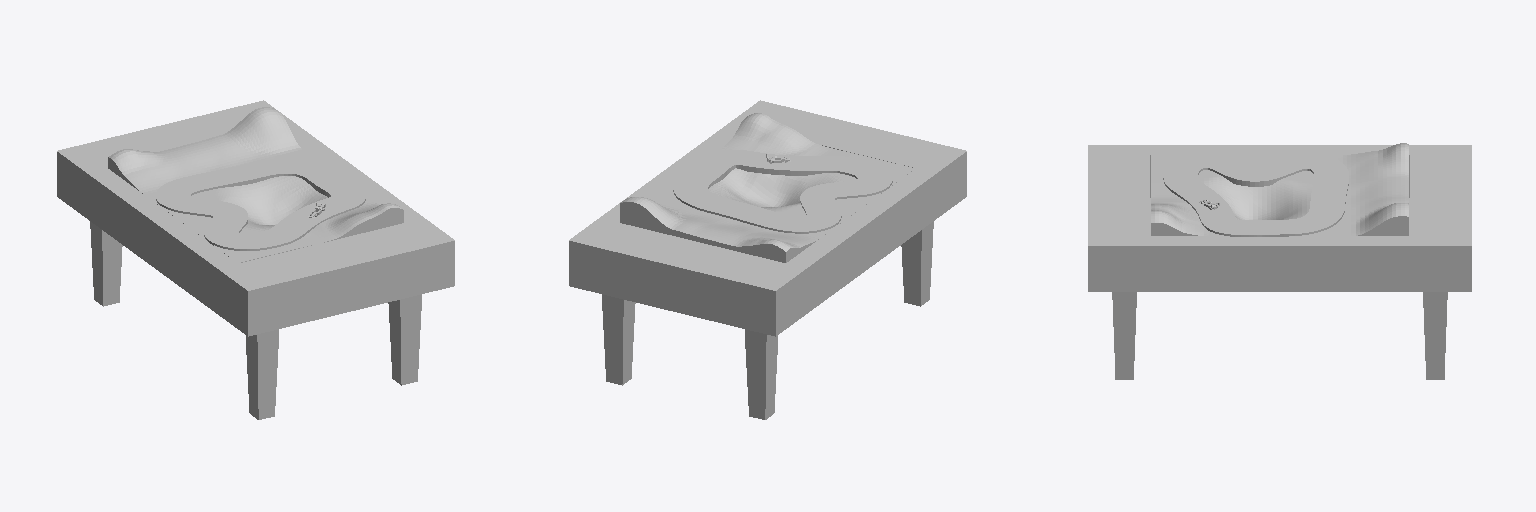
Rendered from NewestTisch41.obj.
3 views of the same model, side by side, from view 1: azimuth 30°, elevation 25°; view 2: azimuth 150°, elevation 25°; view 3: azimuth 270°, elevation 25° (orthographic).
Visible parts, largest first — view 1: Tischplatte_wood_table_001, Landschaft_aerial_grass_rock, off, Bein1_wood_table_001, Bein4_wood_table_001.003, Bein3_wood_table_001.002; view 2: Tischplatte_wood_table_001, Landschaft_aerial_grass_rock, off, Bein2_wood_table_001.001, Bein3_wood_table_001.002, Bein4_wood_table_001.003; view 3: Tischplatte_wood_table_001, Landschaft_aerial_grass_rock, off, Bein1_wood_table_001, Bein2_wood_table_001.001.
Part boxes in pixels (x1,y1,x2,y2): Tischplatte_wood_table_001: (57, 100, 454, 336); Landschaft_aerial_grass_rock: (108, 107, 403, 262); off: (156, 159, 365, 250); Bein1_wood_table_001: (388, 294, 421, 385); Bein4_wood_table_001.003: (246, 329, 278, 419); Bein3_wood_table_001.002: (90, 221, 122, 306); Tischplatte_wood_table_001: (569, 100, 966, 336); Landschaft_aerial_grass_rock: (620, 113, 915, 262); off: (673, 150, 892, 233); Bein2_wood_table_001.001: (602, 294, 635, 385); Bein3_wood_table_001.002: (745, 329, 777, 419); Bein4_wood_table_001.003: (901, 221, 933, 306); Tischplatte_wood_table_001: (1088, 145, 1471, 291); Landschaft_aerial_grass_rock: (1151, 143, 1408, 235); off: (1163, 153, 1348, 236); Bein1_wood_table_001: (1112, 292, 1136, 379); Bein2_wood_table_001.001: (1423, 292, 1447, 379).
Bounding box in the file's own units: 5 × 3.91 × 8.